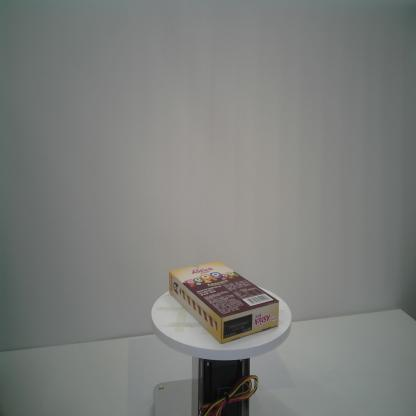Dessert: (169, 261, 279, 345)
